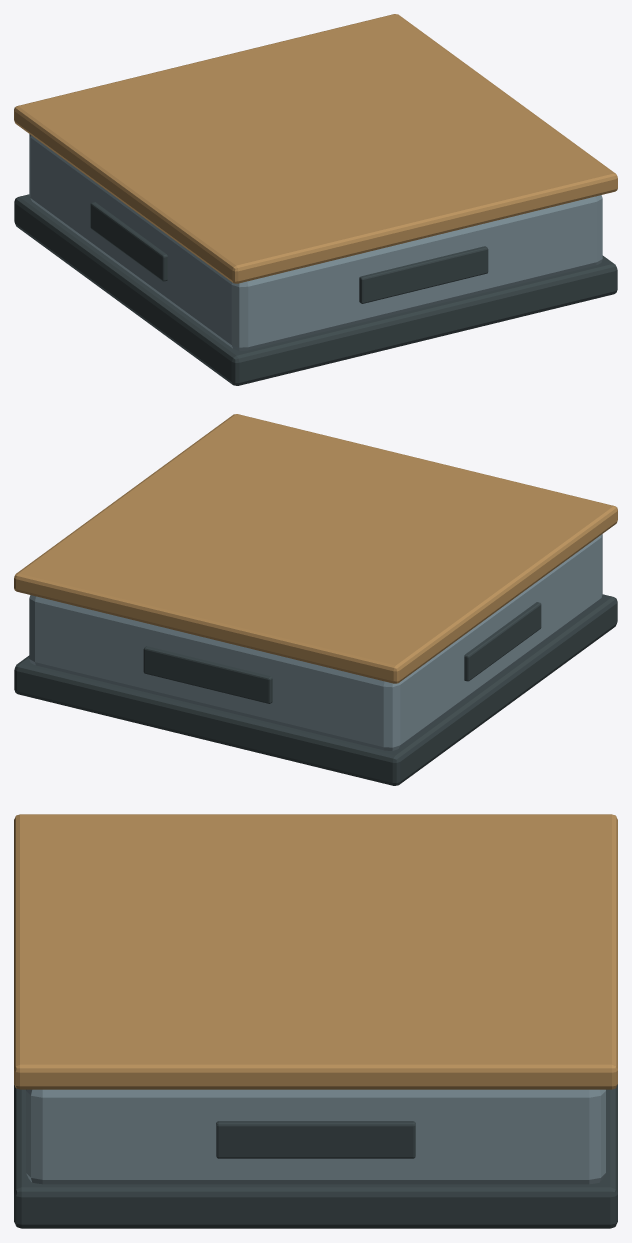
Rendered from tollworks_plinth.glb.
3 views of the same model, one above another, from view 1: azimuth 30°, elevation 25°; view 2: azimuth 150°, elevation 25°; view 3: azimuth 270°, elevation 25° (orthographic). The views are drawn at different scales.
Visible parts, largest first — view 1: GEO-plinth-cap, GEO-plinth-block, GEO-plinth-foot, GEO-plinth-inset-1--1, GEO-plinth-inset-0--1; view 2: GEO-plinth-cap, GEO-plinth-block, GEO-plinth-foot, GEO-plinth-inset-1-1, GEO-plinth-inset-0--1; view 3: GEO-plinth-cap, GEO-plinth-block, GEO-plinth-foot, GEO-plinth-inset-0-1.
Boxes of the visible parts, box(x1,y1,x2,y2) form: GEO-plinth-cap: box(14, 14, 617, 283); GEO-plinth-block: box(29, 134, 602, 350); GEO-plinth-foot: box(14, 194, 617, 385); GEO-plinth-inset-1--1: box(359, 246, 488, 303); GEO-plinth-inset-0--1: box(90, 202, 167, 281); GEO-plinth-cap: box(14, 414, 617, 683); GEO-plinth-block: box(29, 534, 602, 750); GEO-plinth-foot: box(14, 594, 617, 785); GEO-plinth-inset-1-1: box(143, 646, 272, 703); GEO-plinth-inset-0--1: box(464, 602, 541, 681); GEO-plinth-cap: box(14, 814, 617, 1089); GEO-plinth-block: box(26, 1089, 605, 1184); GEO-plinth-foot: box(14, 1084, 617, 1228); GEO-plinth-inset-0-1: box(216, 1121, 415, 1158).
Size of the model in its own units: 2 by 0.6 by 2.
